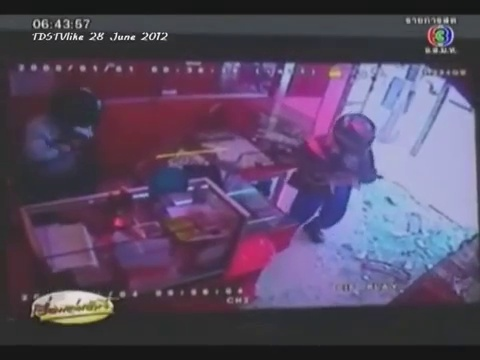helmet: (47, 84, 102, 137), (334, 109, 375, 156)
